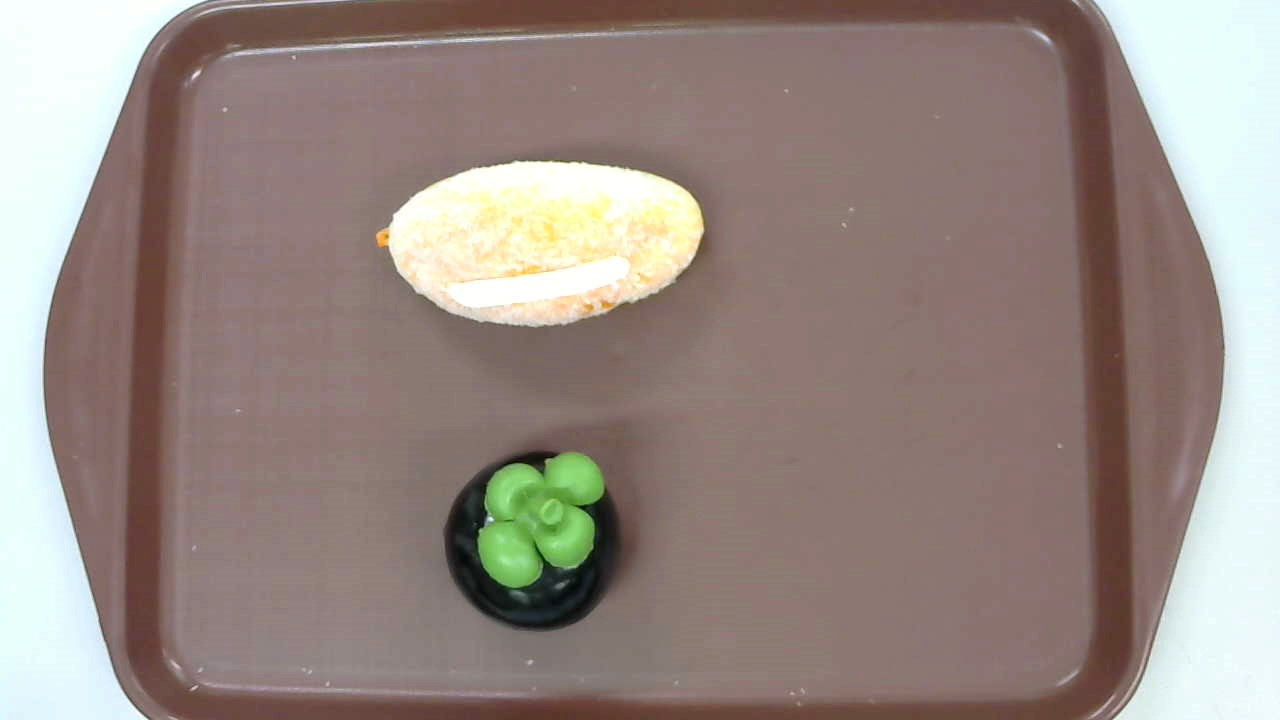coconut: (375, 161, 704, 331)
mangosteen: (440, 451, 622, 631)
